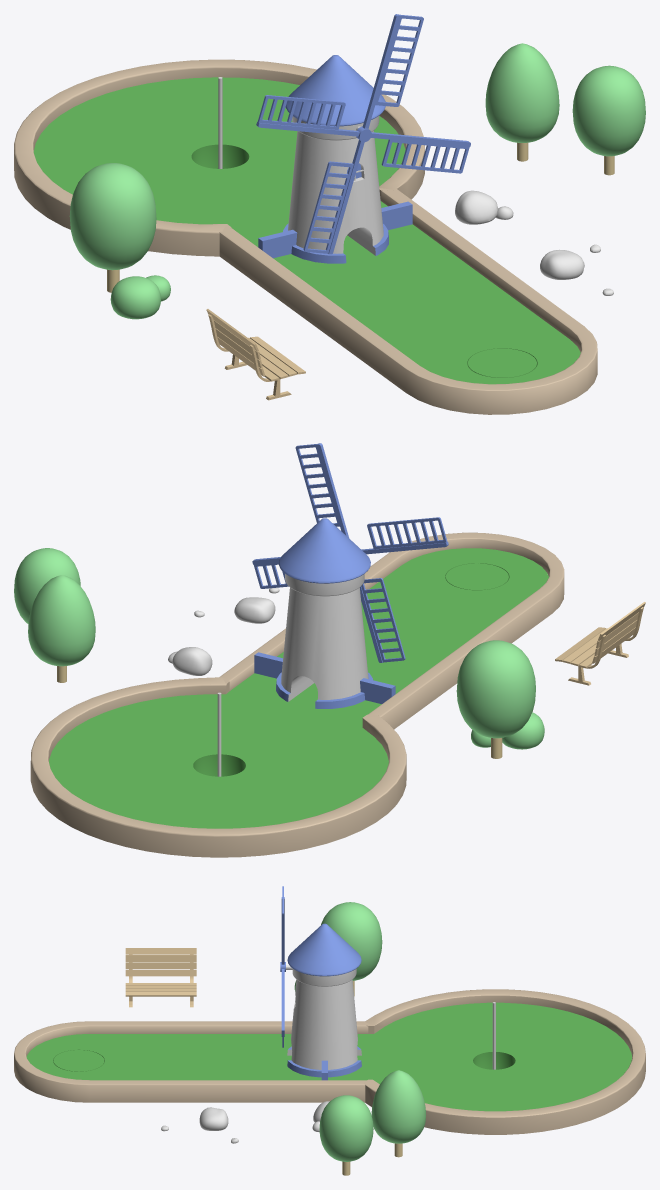
Rendered from Windmill07.glb.
3 renders of one model, top to bottom at view 1: azimuth 30°, elevation 25°; view 2: azimuth 150°, elevation 25°; view 3: azimuth 270°, elevation 25°, orthographic. The views are drawn at different scales.
Parts seen in each view (by area): view 1: Goal, Start, Tree, Windmill, Fan, Bench, Rock, Bush, Flip, Wall; view 2: Goal, Start, Tree, Windmill, Fan, Bench, Rock, Flip, Wall, Bush; view 3: Goal, Start, Windmill, Tree, Bench, Rock, Flip, Fan.
Boxes of the visible parts, left/top/right/bottom form: Goal: left=14, top=59, right=424, bottom=256; Start: left=219, top=189, right=597, bottom=414; Tree: left=69, top=43, right=645, bottom=292; Windmill: left=283, top=55, right=388, bottom=263; Fan: left=256, top=14, right=470, bottom=254; Bench: left=206, top=309, right=305, bottom=400; Rock: left=455, top=190, right=613, bottom=295; Bush: left=110, top=275, right=170, bottom=319; Flip: left=468, top=348, right=536, bottom=377; Wall: left=258, top=201, right=412, bottom=258; Goal: left=30, top=677, right=406, bottom=857; Start: left=219, top=532, right=564, bottom=729; Tree: left=14, top=548, right=535, bottom=758; Windmill: left=276, top=518, right=372, bottom=708; Fan: left=252, top=443, right=448, bottom=662; Bench: left=555, top=602, right=645, bottom=685; Rock: left=168, top=587, right=279, bottom=675; Flip: left=445, top=563, right=508, bottom=590; Wall: left=254, top=652, right=395, bottom=703; Bush: left=471, top=712, right=544, bottom=749; Goal: left=364, top=989, right=645, bottom=1134; Start: left=14, top=1021, right=379, bottom=1102; Windmill: left=287, top=923, right=361, bottom=1077; Tree: left=319, top=902, right=426, bottom=1175; Bench: left=125, top=948, right=196, bottom=1007; Rock: left=161, top=1101, right=329, bottom=1143; Flip: left=53, top=1050, right=104, bottom=1071; Fan: left=280, top=886, right=285, bottom=1047.
Size of the model in its own units: 5.56 by 2.56 by 7.34.
